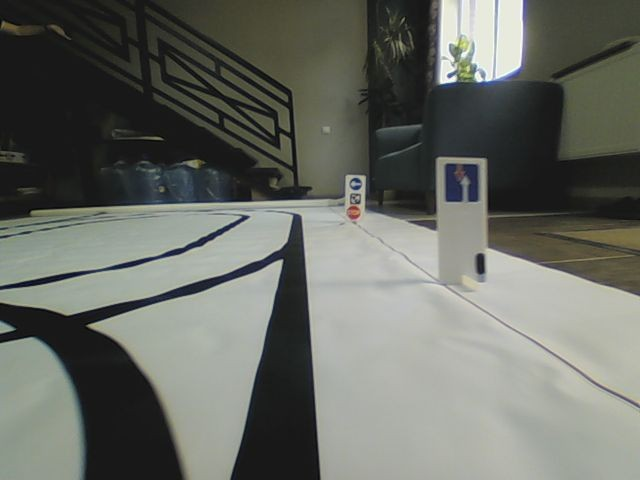priority_movement: (443, 163, 480, 204)
